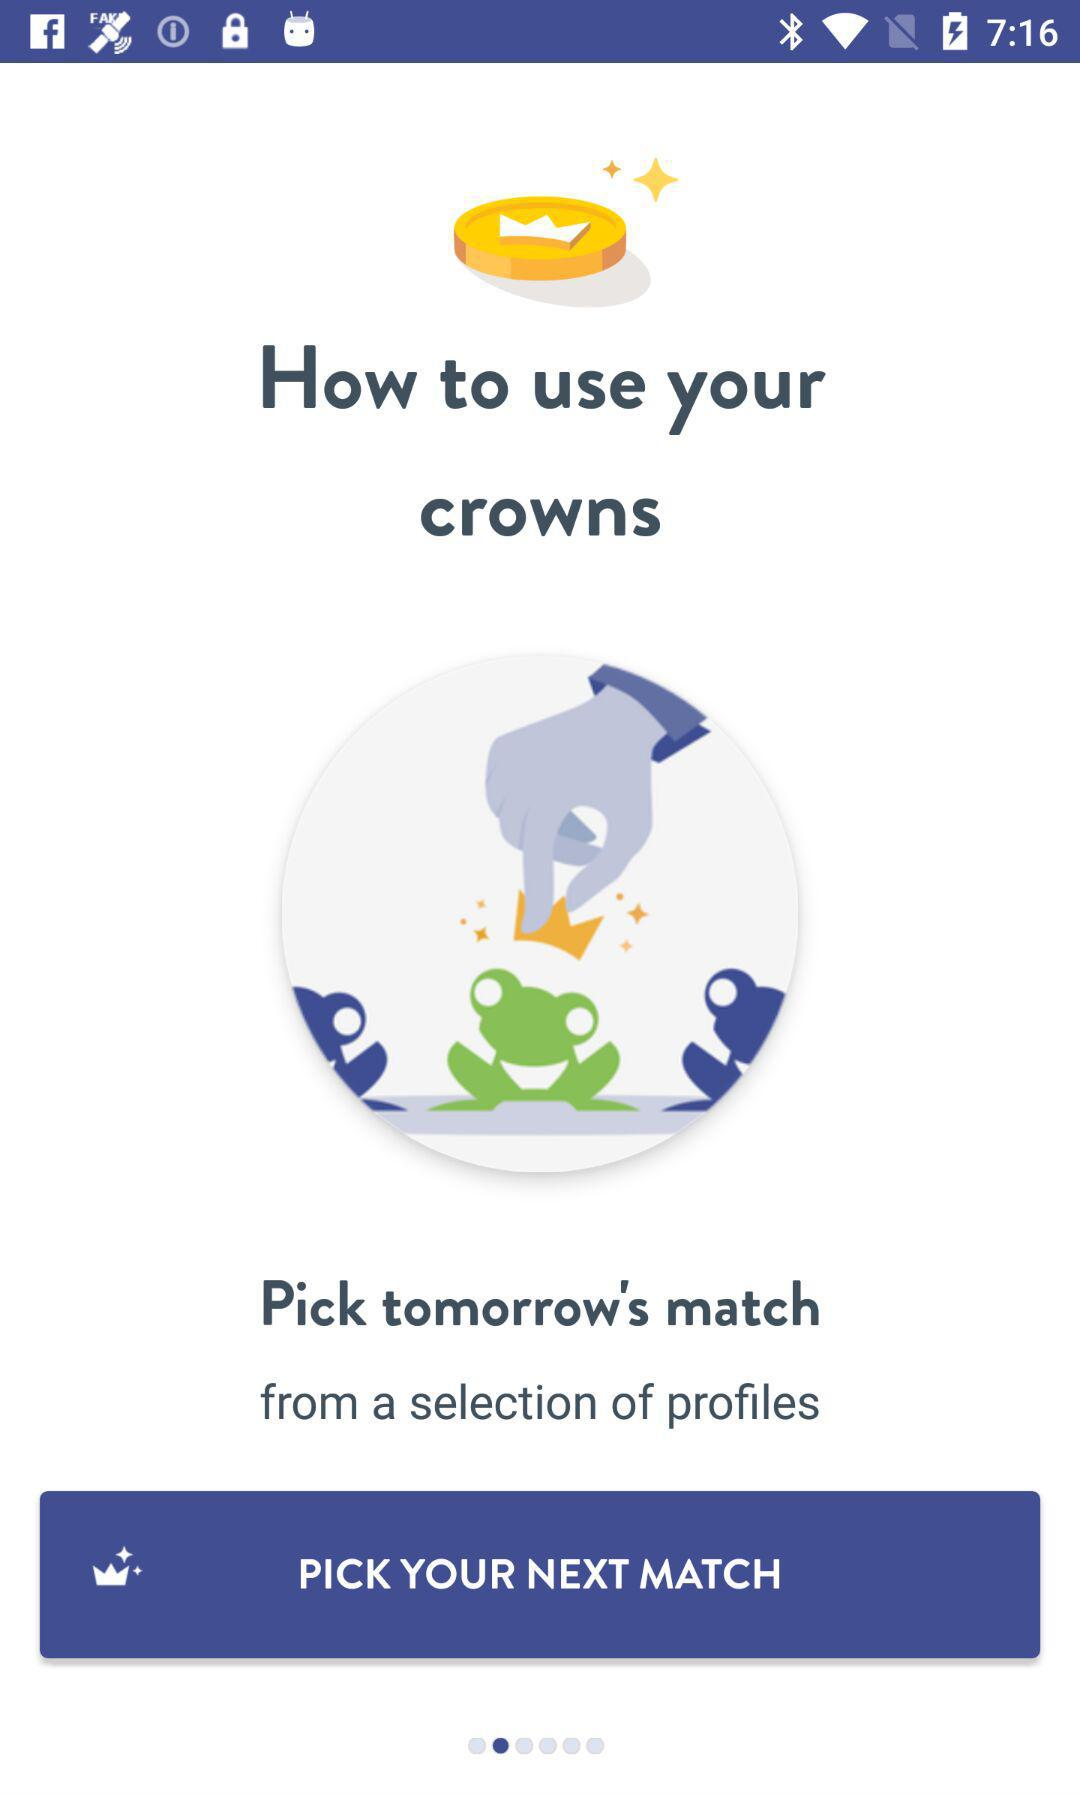Image: (275, 654, 803, 1175), (451, 154, 682, 310)
PageIndicator: (468, 1736, 606, 1756)
Text: (261, 343, 828, 438), (263, 1276, 822, 1329), (259, 1381, 822, 1431), (420, 496, 664, 539)
TextButton: (38, 1490, 1042, 1659)
UpperTaskBar: (1, 1, 1080, 64)
